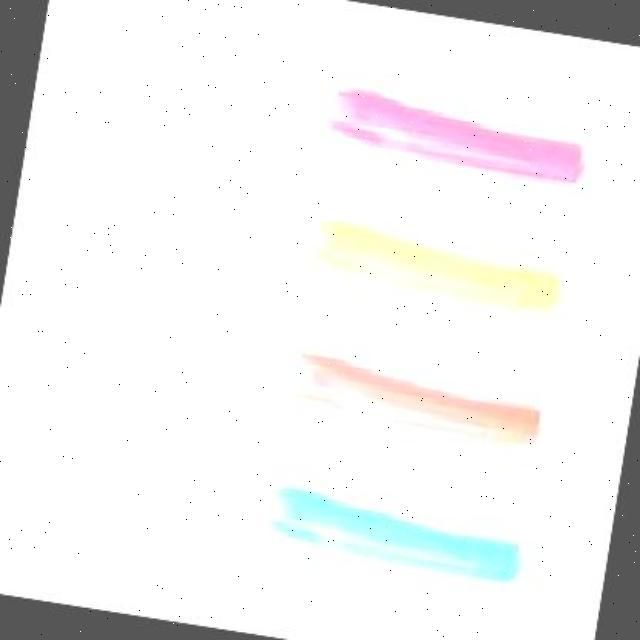toothbrush: (122, 14, 624, 222)
